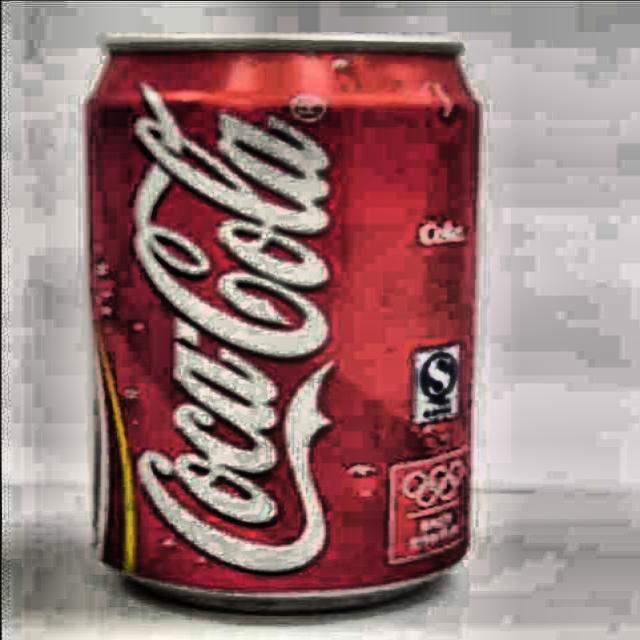Cans: (67, 21, 484, 622)
